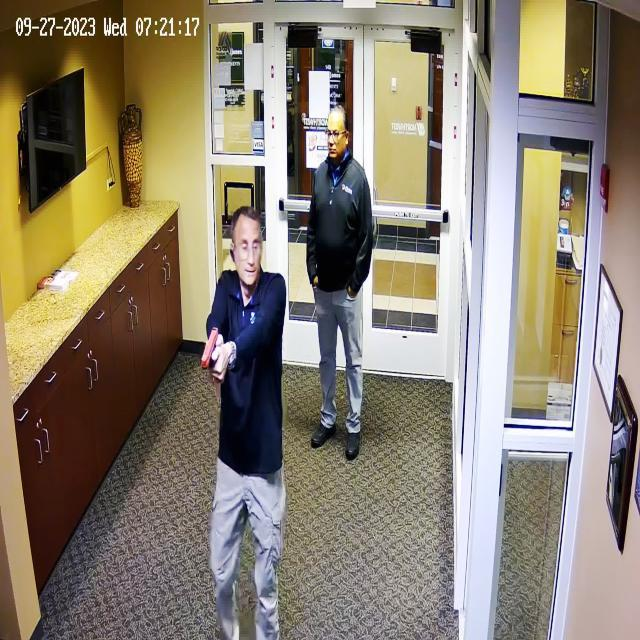Gun: (198, 322, 238, 376)
